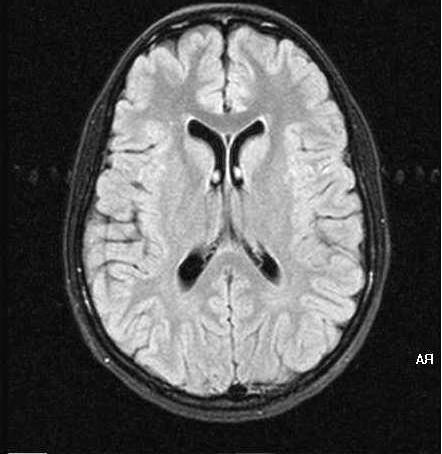Normal_Brain: (3, 8, 442, 454)
